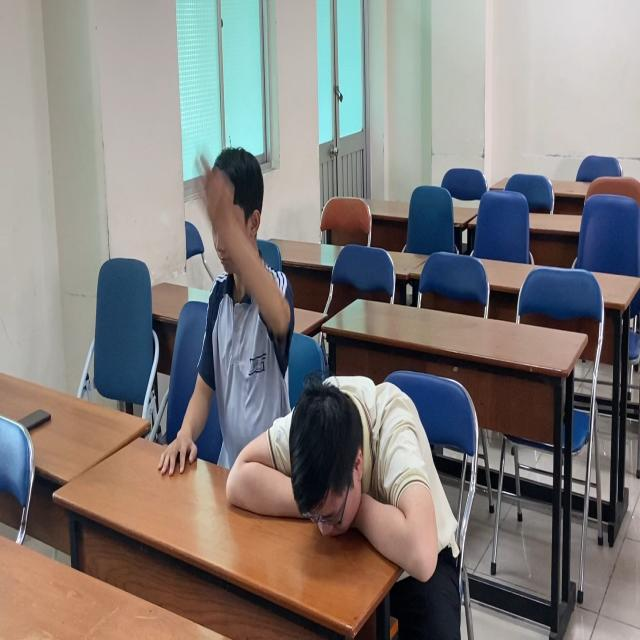raise_hand: (157, 122, 295, 477)
sleep: (228, 360, 461, 573)
